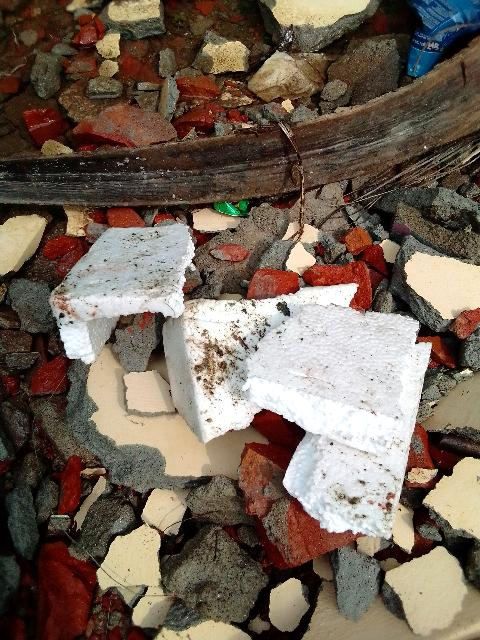cocksheet: (170, 300, 427, 548), (56, 210, 188, 351)
